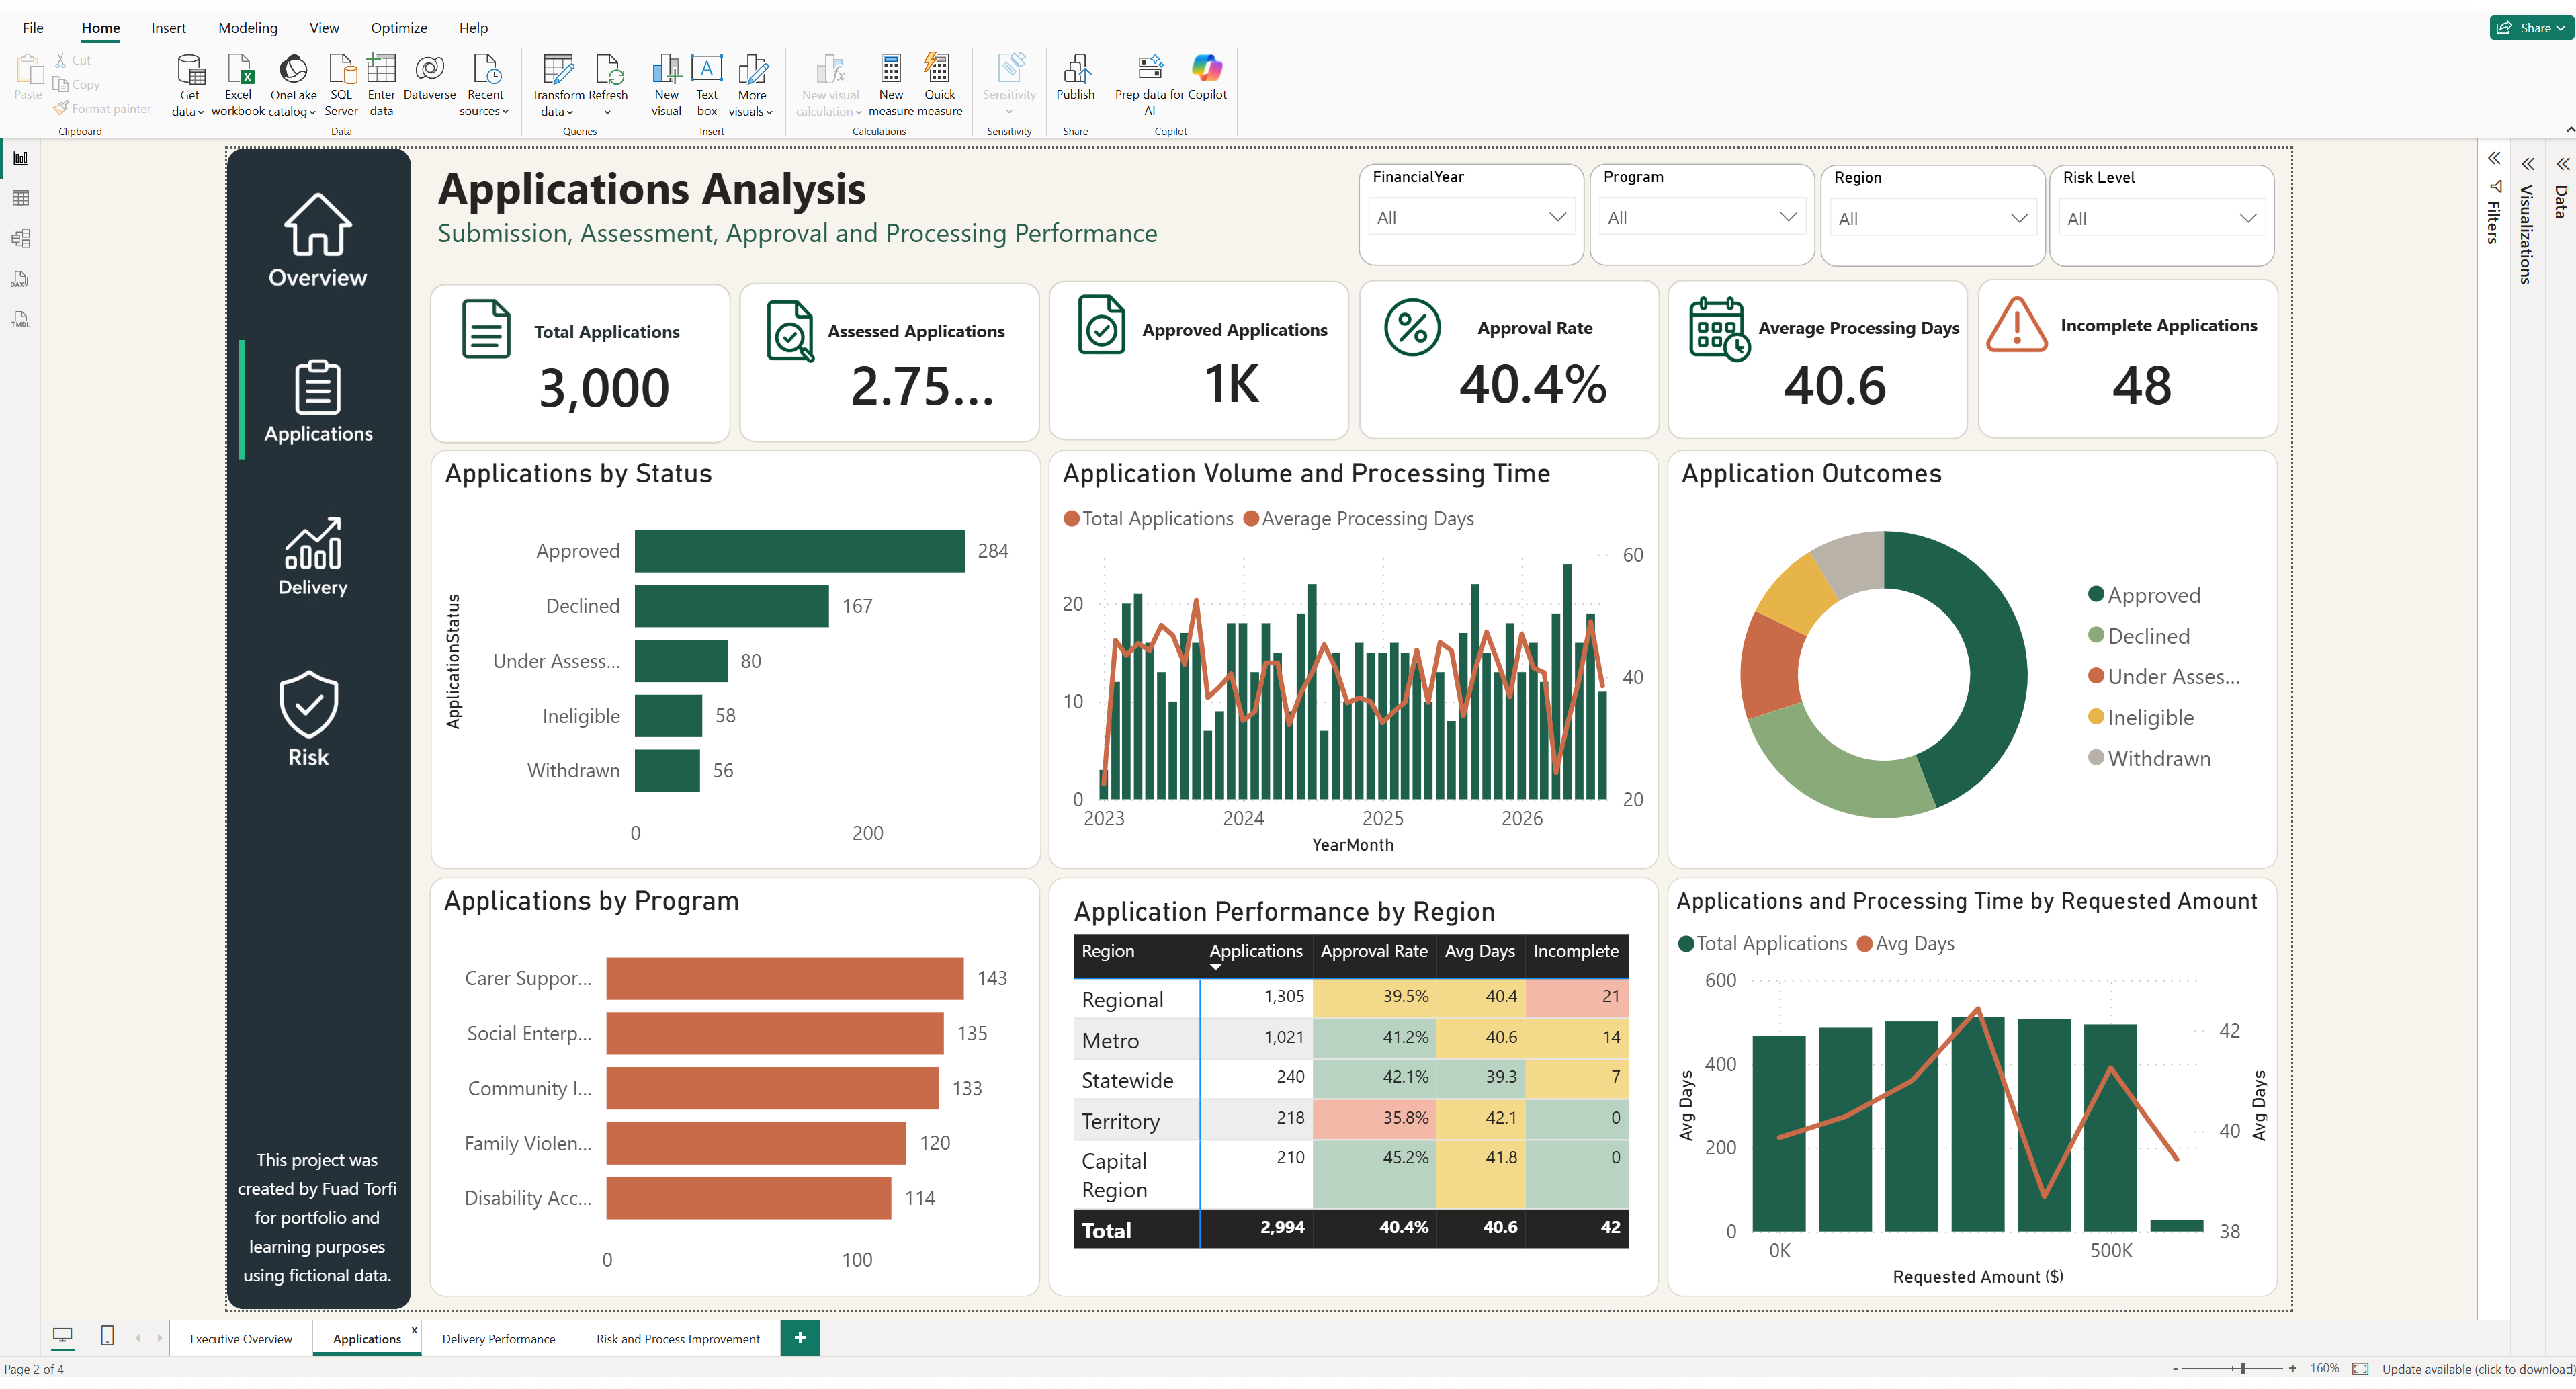

What the dashboard file says about the page in this screenshot:
{"tool":"powerbi","page":{"name":"Applications","canvas":[1280,720],"ordinal":1},"visuals":[{"type":"shape","box":[0,0,114,719.7],"z":0},{"type":"textbox","box":[125.8,0,570.7,72.7],"z":1000},{"type":"slicer","fields":{"Values":["Date.FinancialYear"]},"box":[701.8,9.3,140,63.3],"z":2000},{"type":"slicer","fields":{"Values":["Programs.ProgramName"]},"box":[845.1,9.5,140,63.2],"z":3000},{"type":"slicer","fields":{"Values":["Applications.Region"]},"box":[988.3,10,140,63.2],"z":4000},{"type":"slicer","fields":{"Values":["Applications.RiskRating"]},"box":[1130.1,10,140,63.2],"z":5000},{"type":"image","box":[18.4,26.8,76.3,64],"z":6000},{"type":"image","box":[0,129.1,113.6,64],"z":7000},{"type":"image","box":[5.9,220.6,88.8,64],"z":8000},{"type":"image","box":[0,320,100.8,64.2],"z":9000},{"type":"shape","box":[0,118.8,18.5,74.2],"z":10000},{"type":"shape","box":[125.7,83.7,186.9,99.2],"z":11000},{"type":"cardVisual","fields":{"Data":["DAX measures.Total Applications"]},"box":[163.7,108.1,144.3,74.3],"z":12000},{"type":"textbox","box":[158.7,97.5,153.7,30.7],"z":13000},{"type":"image","box":[137.2,92.1,46.8,39.6],"z":14000},{"type":"shape","box":[317.8,82.9,186.9,99.2],"z":15000},{"type":"cardVisual","fields":{"Data":["DAX measures.Total Assessments"]},"box":[357.2,107.4,158.6,73.6],"z":16000},{"type":"textbox","box":[350.8,96.7,153.7,30.7],"z":17000},{"type":"image","box":[327.6,93.5,48.2,39.6],"z":18000},{"type":"shape","box":[509.6,81.9,186.9,99.2],"z":19000},{"type":"cardVisual","fields":{"Data":["DAX measures.Approved Applications"]},"box":[577.3,105.2,119.2,74.6],"z":20000},{"type":"textbox","box":[548,96,153.8,30.8],"z":21000},{"type":"image","box":[520.8,90.3,43.6,38.9],"z":22000},{"type":"shape","box":[701.6,81.1,186.9,99.2],"z":23000},{"type":"cardVisual","fields":{"Data":["DAX measures.Approval Rate"]},"box":[735,106,157.7,73.8],"z":24000},{"type":"textbox","box":[734.6,94.9,153.7,30.7],"z":25000},{"type":"image","box":[711.3,92.2,47.6,37.6],"z":26000},{"type":"shape","box":[892.9,81.1,186.9,99.2],"z":27000},{"type":"cardVisual","fields":{"Data":["DAX measures.Average Processing Days"]},"box":[936.5,106,162,74],"z":28000},{"type":"textbox","box":[944.2,95.2,135.4,30.8],"z":29000},{"type":"image","box":[903.7,91.4,47.5,41.8],"z":30000},{"type":"shape","box":[1085.6,80.7,186.9,99.2],"z":31000},{"type":"textbox","box":[1124.1,93,147.7,30.8],"z":32000},{"type":"image","box":[1085.1,90.7,46.4,41.1],"z":33000},{"type":"cardVisual","fields":{"Data":["DAX measures.Incomplete Applications"]},"box":[1140.2,106.9,132.3,73.8],"z":34000},{"type":"clusteredBarChart","title":"Applications by Status","fields":{"Category":["Applications.ApplicationStatus"],"Y":["DAX measures.Total Applications"]},"box":[126.5,187.1,378.6,260],"z":35000},{"type":"lineClusteredColumnComboChart","title":"Application Volume and Processing Time","fields":{"Category":["Date.YearMonth"],"Y":["DAX measures.Total Applications"],"Y2":["DAX measures.Average Processing Days"]},"box":[509.4,187.1,378.6,260],"z":36000},{"type":"donutChart","title":"Application Outcomes","fields":{"Category":["Applications.ApplicationStatus"],"Y":["DAX measures.Total Applications"]},"box":[892.9,187.1,378.6,260],"z":37000},{"type":"clusteredBarChart","title":"Applications by Program","fields":{"Category":["Programs.ProgramName"],"Y":["DAX measures.Total Applications"]},"box":[125.8,452.1,378.6,260],"z":38000},{"type":"pivotTable","title":"Application Performance by Region","fields":{"Rows":["Applications.Region"],"Values":["DAX measures.Total Applications","DAX measures.Approval Rate","DAX measures.Average Processing Days","DAX measures.Incomplete Applications"]},"box":[509.4,452.1,378.6,260],"z":39000},{"type":"lineClusteredColumnComboChart","title":"Applications and Processing Time by Requested Amount","fields":{"Category":["Applications.Requested Amount Band"],"Y":["DAX measures.Total Applications"],"Y2":["DAX measures.Average Processing Days"]},"box":[892.9,452.1,378.6,260],"z":40000},{"type":"textbox","box":[0,610.6,111.9,109.4],"z":40001}]}

Visuals, with their boxes on the page's 1280x720 design canvas (x1, y1, x2, y2). These are canvas units, not pixel positions in the 2576x1389 screenshot, which may show the page scaled, cropped or inside an application window:
shape: Rect(0, 0, 114, 720)
textbox: Rect(126, 0, 696, 73)
slicer - Date.FinancialYear: Rect(702, 9, 842, 73)
slicer - Programs.ProgramName: Rect(845, 10, 985, 73)
slicer - Applications.Region: Rect(988, 10, 1128, 73)
slicer - Applications.RiskRating: Rect(1130, 10, 1270, 73)
image: Rect(18, 27, 95, 91)
image: Rect(0, 129, 114, 193)
image: Rect(6, 221, 95, 285)
image: Rect(0, 320, 101, 384)
shape: Rect(0, 119, 18, 193)
shape: Rect(126, 84, 313, 183)
cardVisual - DAX measures.Total Applications: Rect(164, 108, 308, 182)
textbox: Rect(159, 98, 312, 128)
image: Rect(137, 92, 184, 132)
shape: Rect(318, 83, 505, 182)
cardVisual - DAX measures.Total Assessments: Rect(357, 107, 516, 181)
textbox: Rect(351, 97, 504, 127)
image: Rect(328, 94, 376, 133)
shape: Rect(510, 82, 696, 181)
cardVisual - DAX measures.Approved Applications: Rect(577, 105, 696, 180)
textbox: Rect(548, 96, 702, 127)
image: Rect(521, 90, 564, 129)
shape: Rect(702, 81, 888, 180)
cardVisual - DAX measures.Approval Rate: Rect(735, 106, 893, 180)
textbox: Rect(735, 95, 888, 126)
image: Rect(711, 92, 759, 130)
shape: Rect(893, 81, 1080, 180)
cardVisual - DAX measures.Average Processing Days: Rect(936, 106, 1098, 180)
textbox: Rect(944, 95, 1080, 126)
image: Rect(904, 91, 951, 133)
shape: Rect(1086, 81, 1272, 180)
textbox: Rect(1124, 93, 1272, 124)
image: Rect(1085, 91, 1132, 132)
cardVisual - DAX measures.Incomplete Applications: Rect(1140, 107, 1272, 181)
"Applications by Status" clusteredBarChart: Rect(126, 187, 505, 447)
"Application Volume and Processing Time" lineClusteredColumnComboChart: Rect(509, 187, 888, 447)
"Application Outcomes" donutChart: Rect(893, 187, 1272, 447)
"Applications by Program" clusteredBarChart: Rect(126, 452, 504, 712)
"Application Performance by Region" pivotTable: Rect(509, 452, 888, 712)
"Applications and Processing Time by Requested Amount" lineClusteredColumnComboChart: Rect(893, 452, 1272, 712)
textbox: Rect(0, 611, 112, 720)
